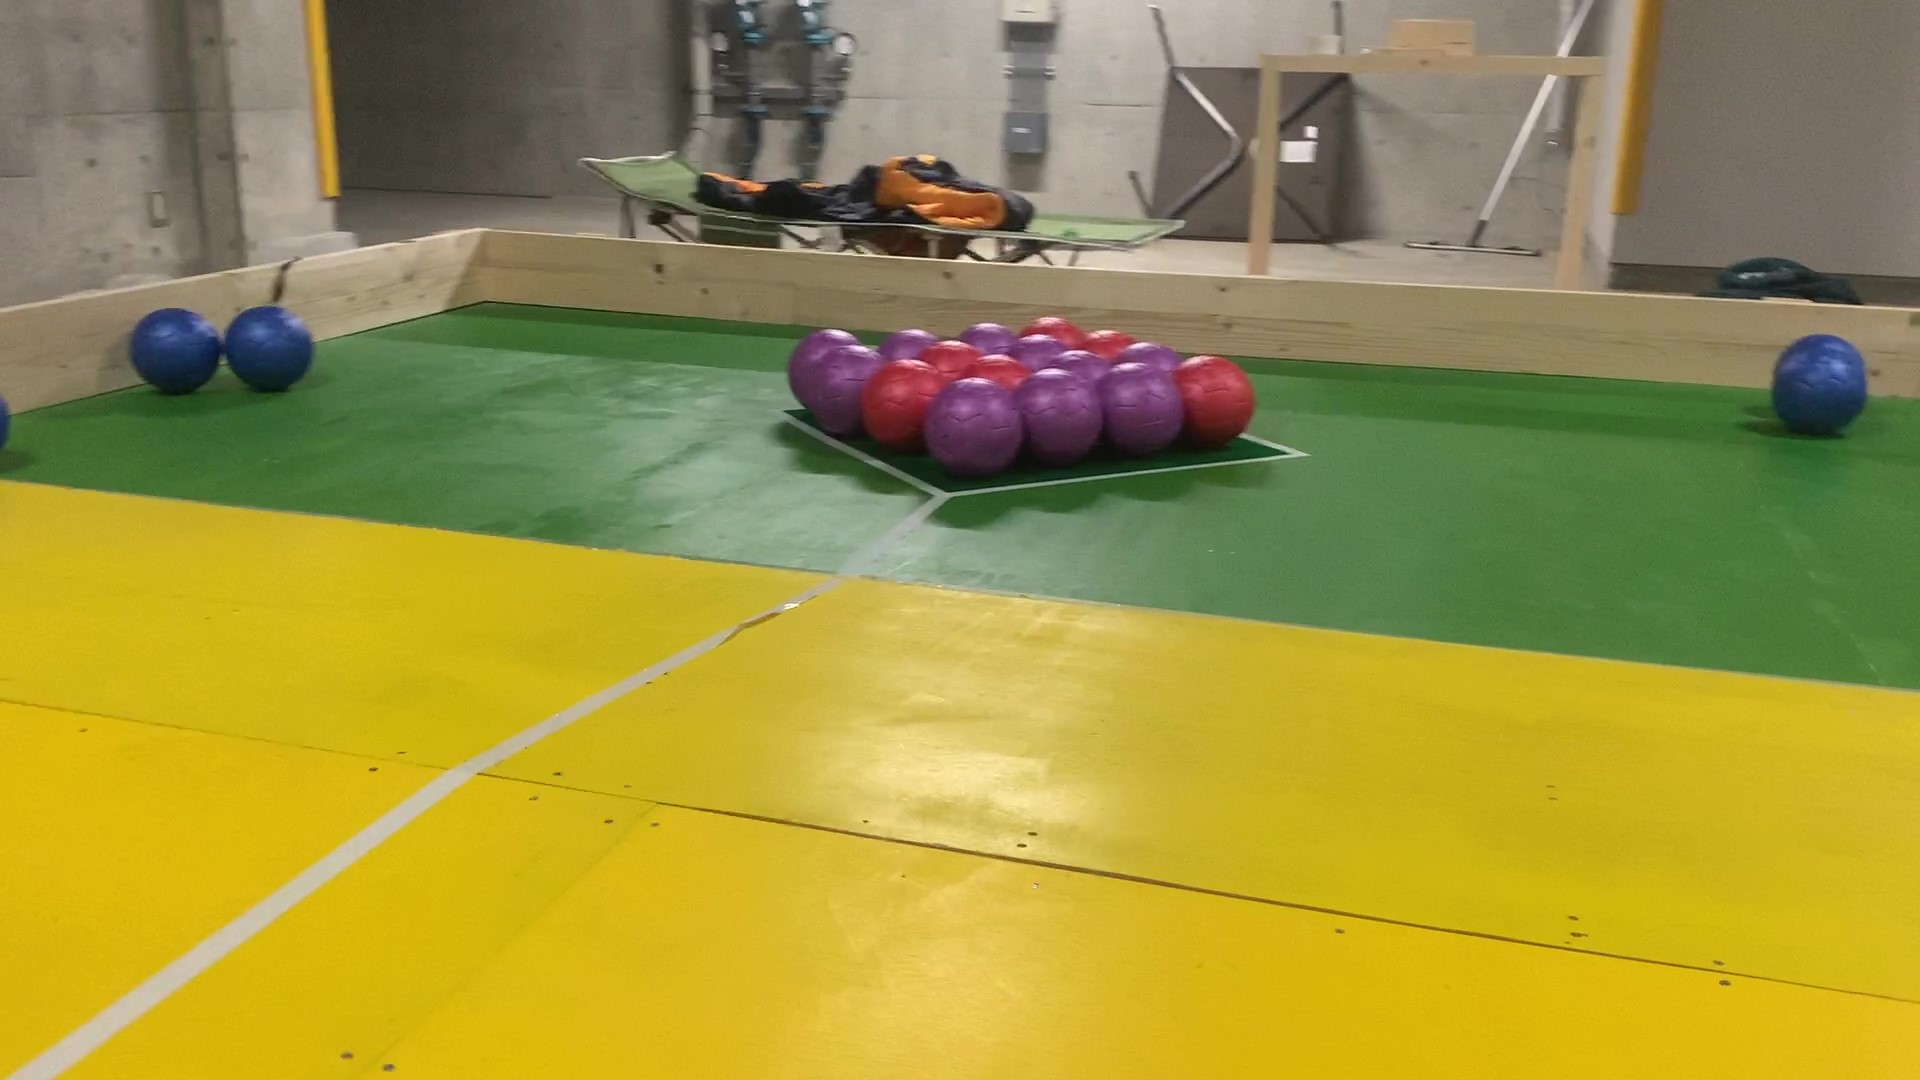blue: (1785, 359, 1857, 427), (141, 316, 207, 386), (229, 320, 306, 380), (1796, 334, 1854, 351), (1, 397, 8, 452)
purple: (939, 390, 1010, 464), (1110, 371, 1175, 444), (1031, 376, 1091, 451), (822, 357, 862, 434), (793, 338, 815, 409), (1124, 339, 1180, 367), (887, 328, 934, 356), (1011, 338, 1059, 360), (1064, 352, 1104, 375), (971, 327, 1010, 345)
red: (1182, 364, 1247, 438), (872, 373, 927, 438), (928, 344, 972, 373), (975, 357, 1021, 384), (1091, 330, 1129, 353), (1026, 320, 1079, 338)
